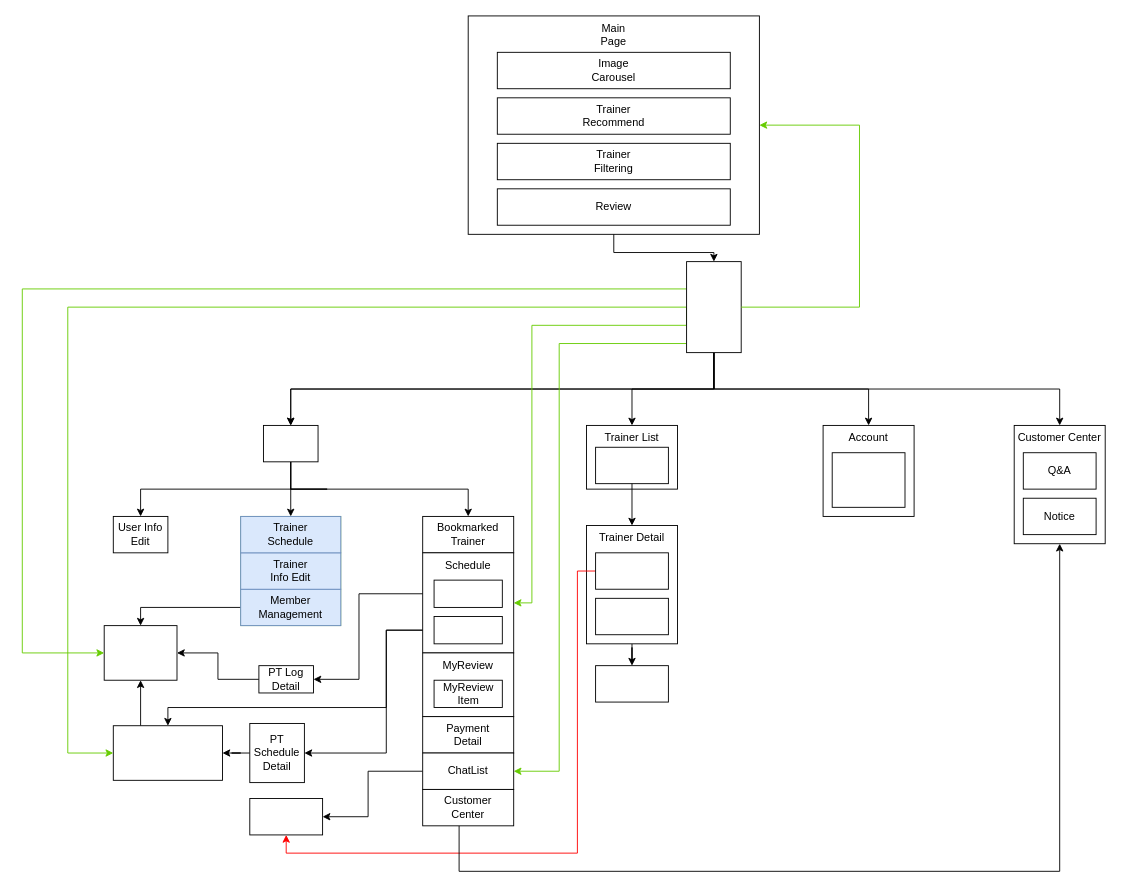
This 1121x895 diagram has some shape labels left out. The centre of each missing label's shape, as x and y in pixels:
"Chat" belongs at point (286, 816).
"Log In / Sign Up" belongs at point (868, 479).
"MyPage" belongs at point (290, 443).
"Nav" belongs at point (713, 307).
"PT Log" belongs at point (467, 593).
"PT Schedule" belongs at point (467, 630).
"Trainer Info" belongs at point (631, 570).
"Trainer List Item" belongs at point (631, 465).
"Trainer Reservation" belongs at point (631, 683).
"Trainer Review" belongs at point (631, 616).
"Training Record" belongs at point (140, 652).
"Video" belongs at point (167, 752).
